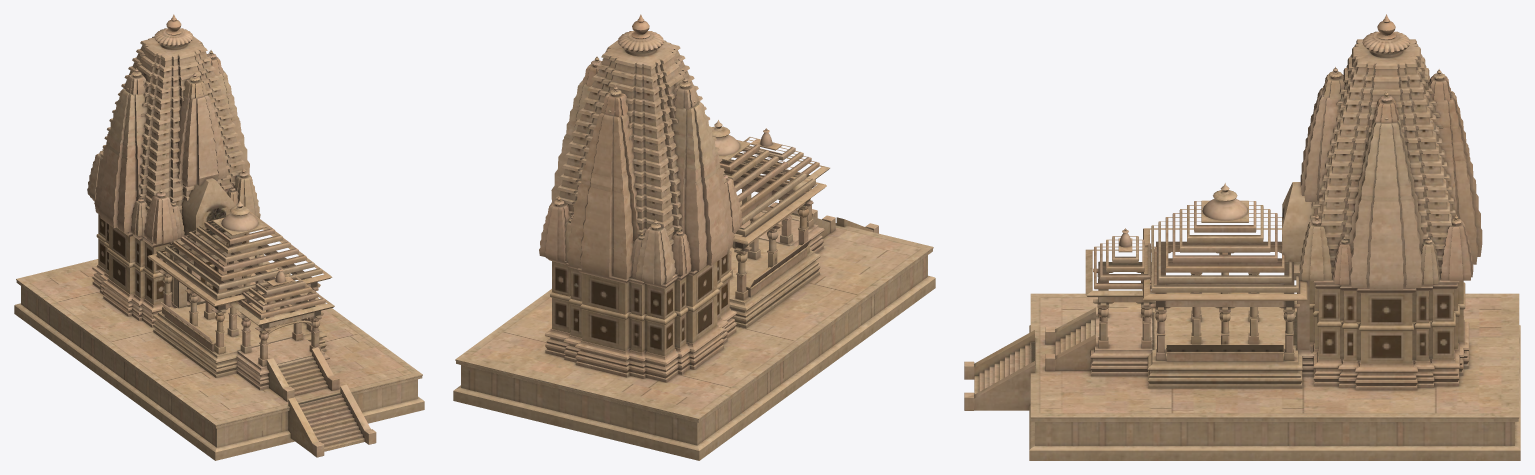
File: temple-nagara.glb
3 renders of one model, left to right at view 1: azimuth 30°, elevation 25°; view 2: azimuth 150°, elevation 25°; view 3: azimuth 270°, elevation 25°, orthographic. The views are drawn at different scales.
Parts seen in each view (by area): view 1: lod0; view 2: lod0; view 3: lod0.
Part boxes in pixels (x1,y1,x2,y2): lod0: [14, 14, 424, 460]; lod0: [453, 14, 935, 460]; lod0: [964, 14, 1520, 460].
Size of what is drawn, in the model's own units: 17.5 by 25.11 by 32.95.
Materials: 1 (1 with a texture image).
